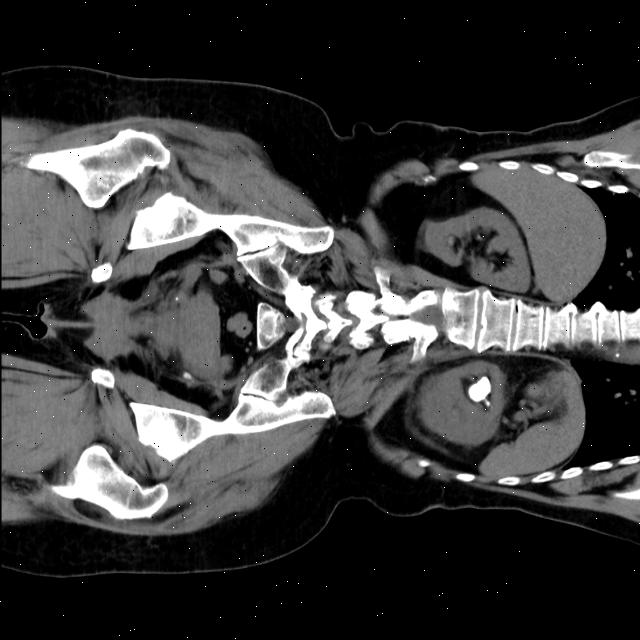kidneystone: (467, 376, 490, 403)
